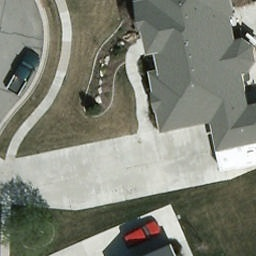car: (122, 221, 164, 249)
pickup: (7, 50, 40, 99)
